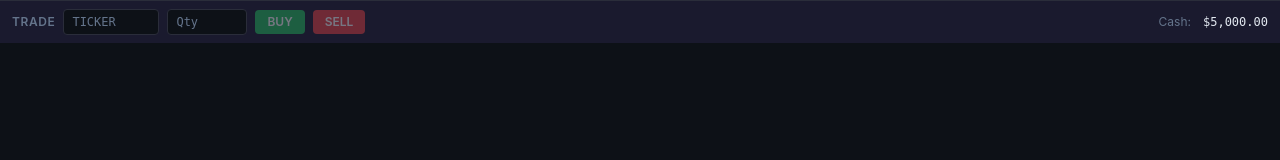
Scenario: TradeBar › shows error message on failed trade
Type "AAPL" into the field with test id "trade-ticker-input".
click(111, 22); type("AAPL")  # box [63, 9, 159, 35]
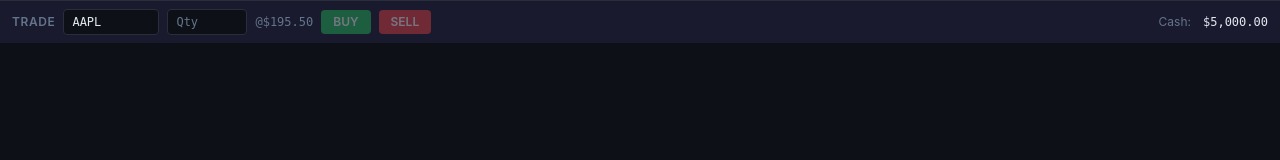
Type "1000" into the number field with test id "trade-qty-input".
click(207, 22); type("1000")  # box [167, 9, 247, 35]
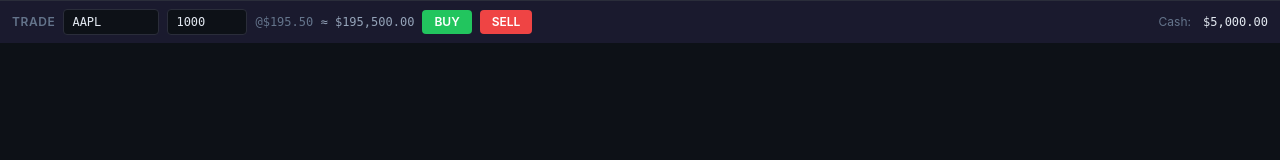
Click the button with test id "trade-buy-btn".
click(447, 22)  # box [422, 10, 472, 34]
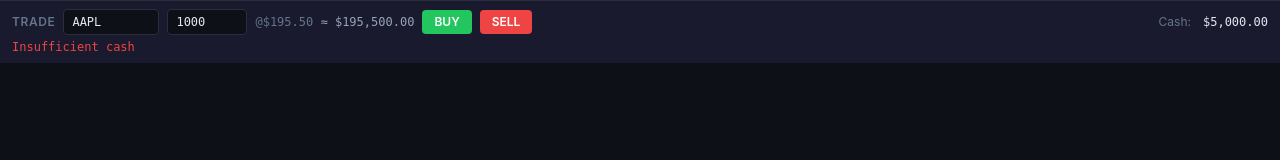
expect the text "Insufficient cash" is shown: met, box [12, 40, 135, 54]
